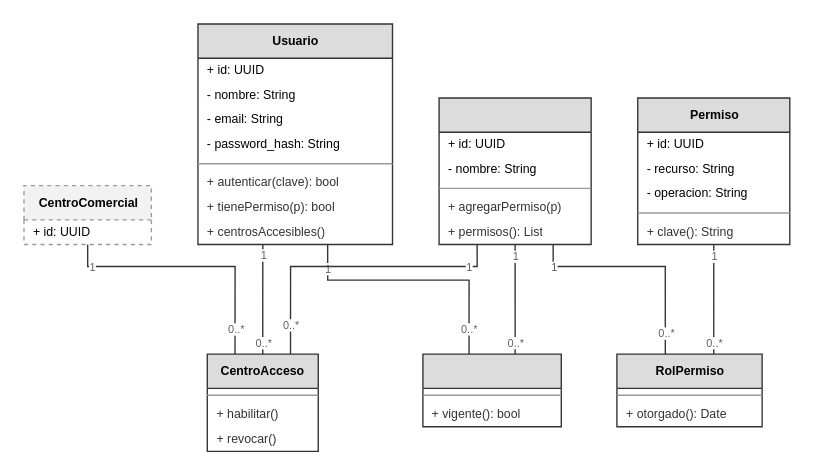
Image size: 814x475. Some labels were removed from this diagram. The box of each missing label's shape, as (x1, y1, x2, y2) in pixels:
Rol: (438, 97, 591, 245)
UsuarioRol: (422, 353, 561, 427)
